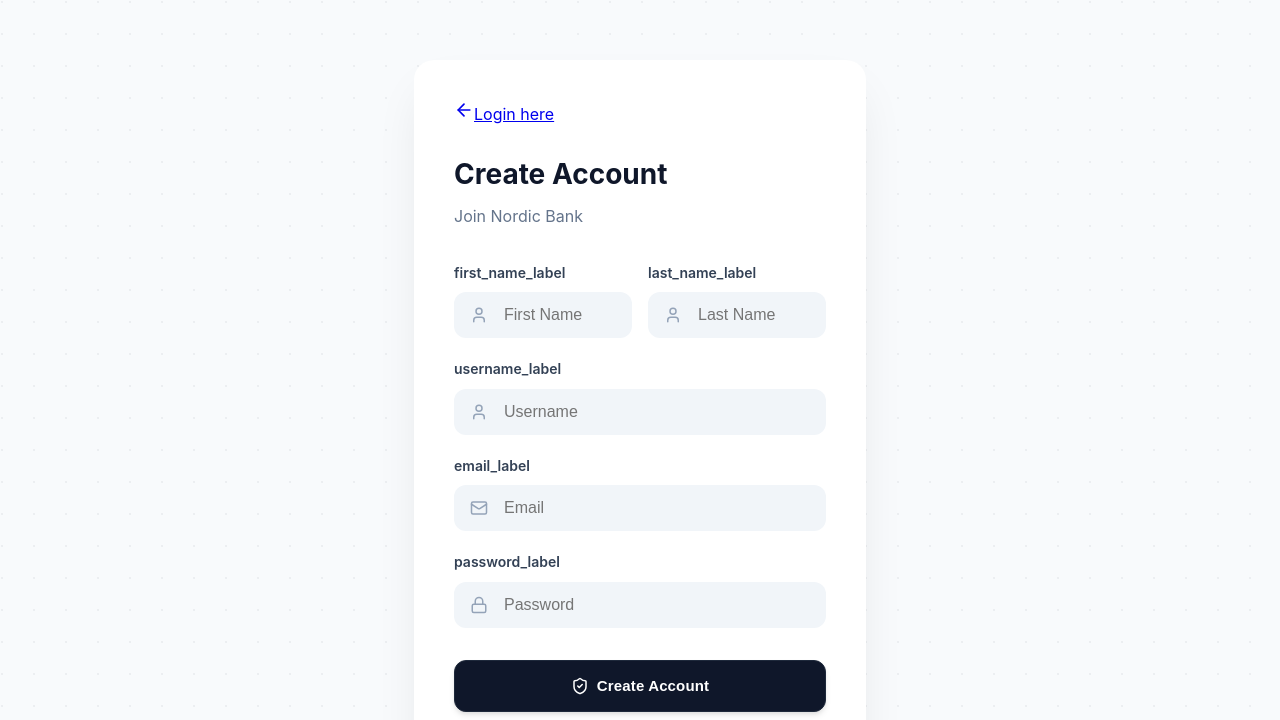
Scenario: RegisterContent - P1 Registration Tests › should handle registration errors
# Submit form
In the field with placeholder "First Name": (543, 315) top-left (454, 292), bottom-right (632, 338), type "Existing"
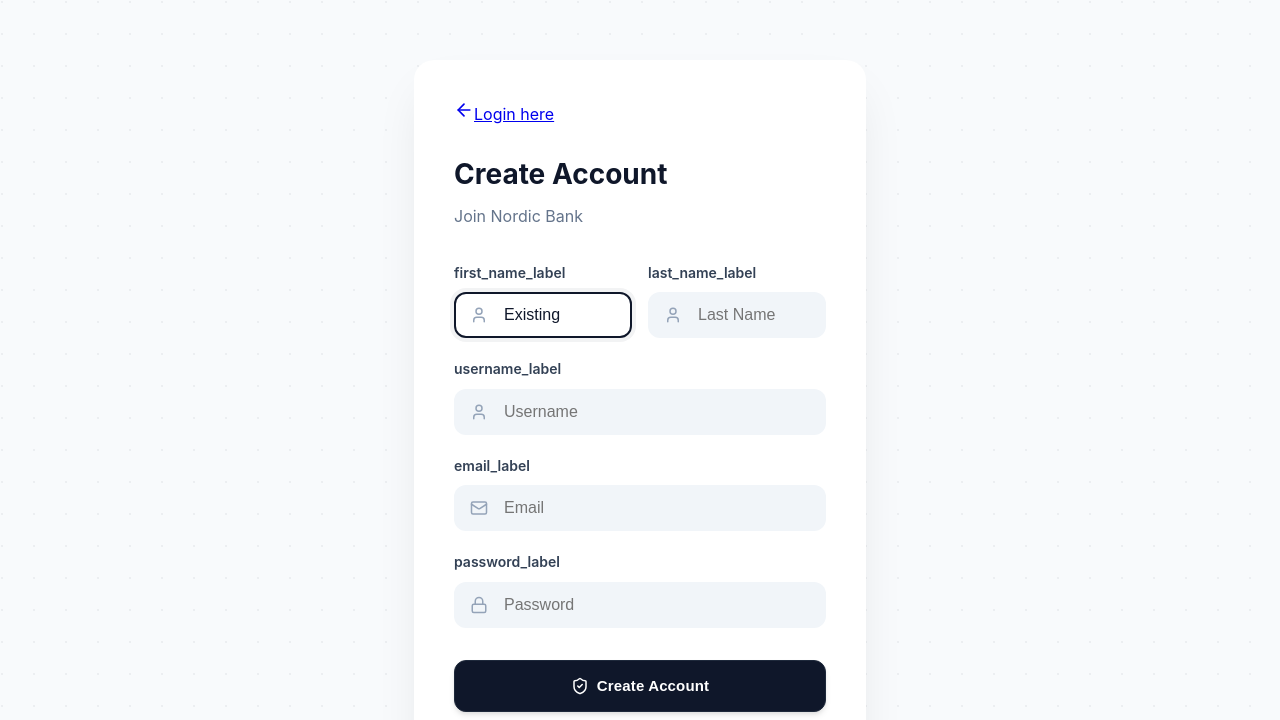
In the field with placeholder "Last Name": (737, 315) top-left (648, 292), bottom-right (826, 338), type "User"
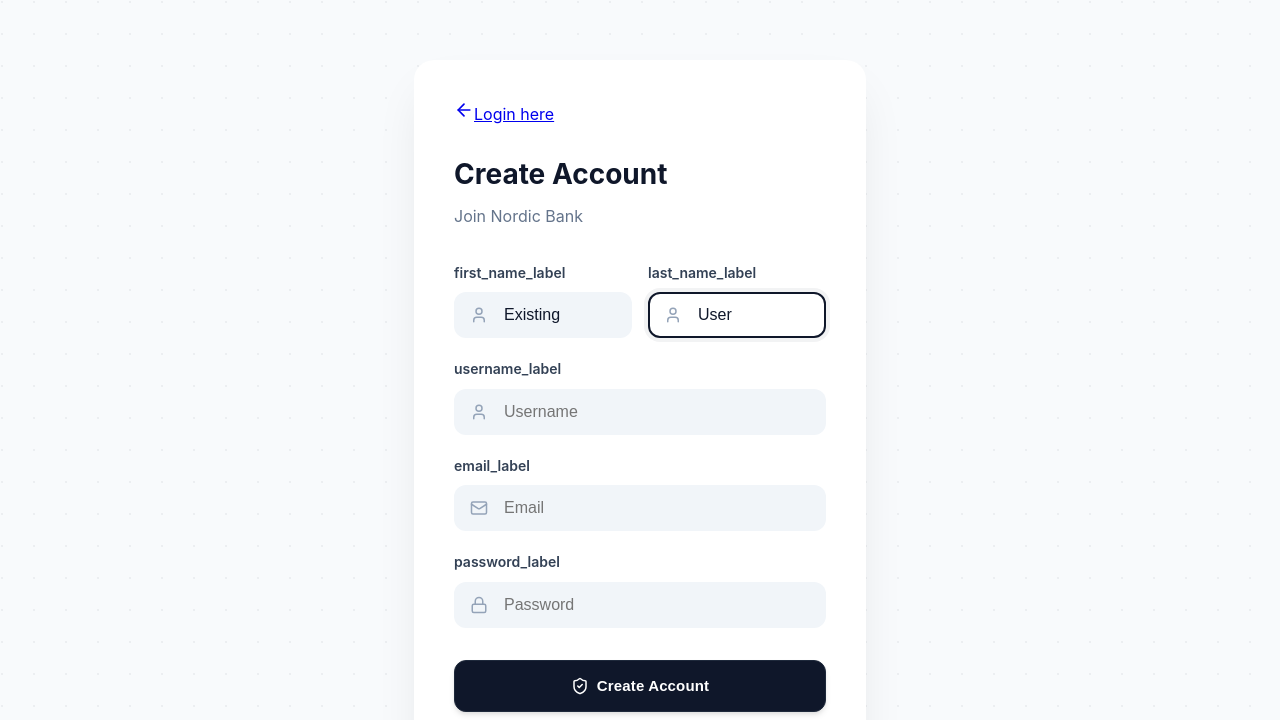
In the field with placeholder "Username": (640, 412) top-left (454, 389), bottom-right (826, 435), type "existing"
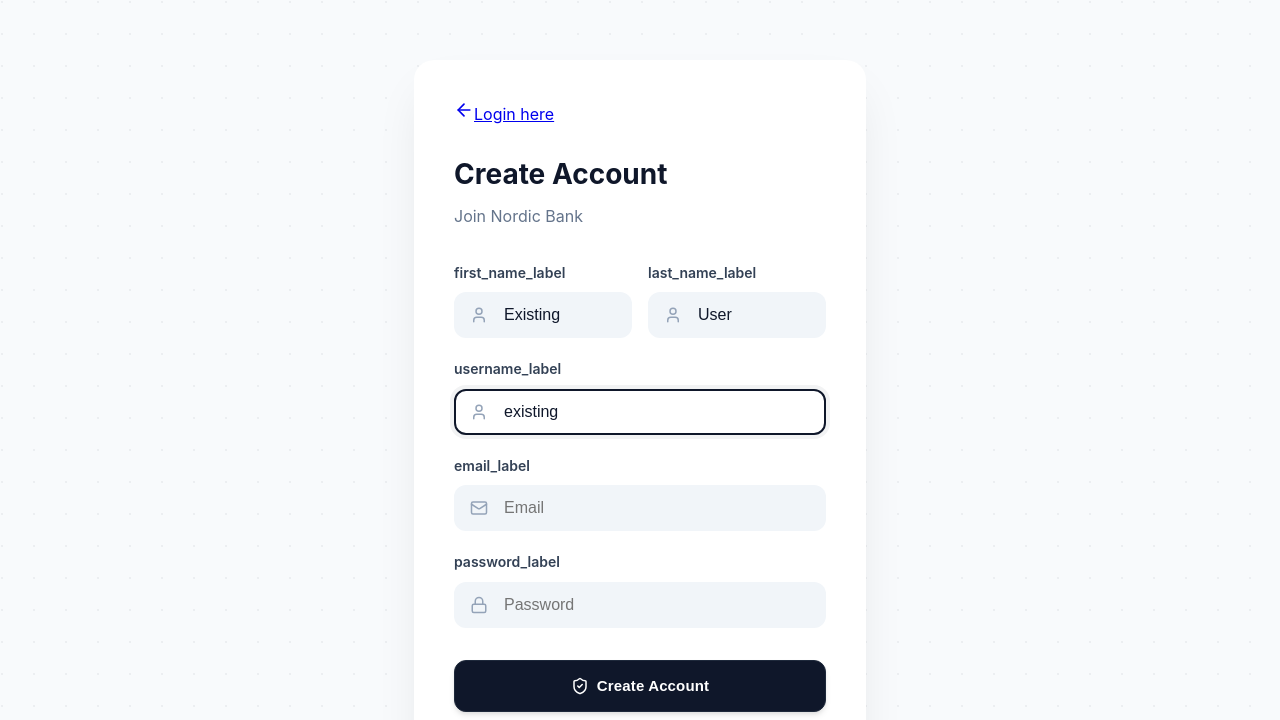
In the field with placeholder "Email": (640, 508) top-left (454, 485), bottom-right (826, 531), type "test@test.com"
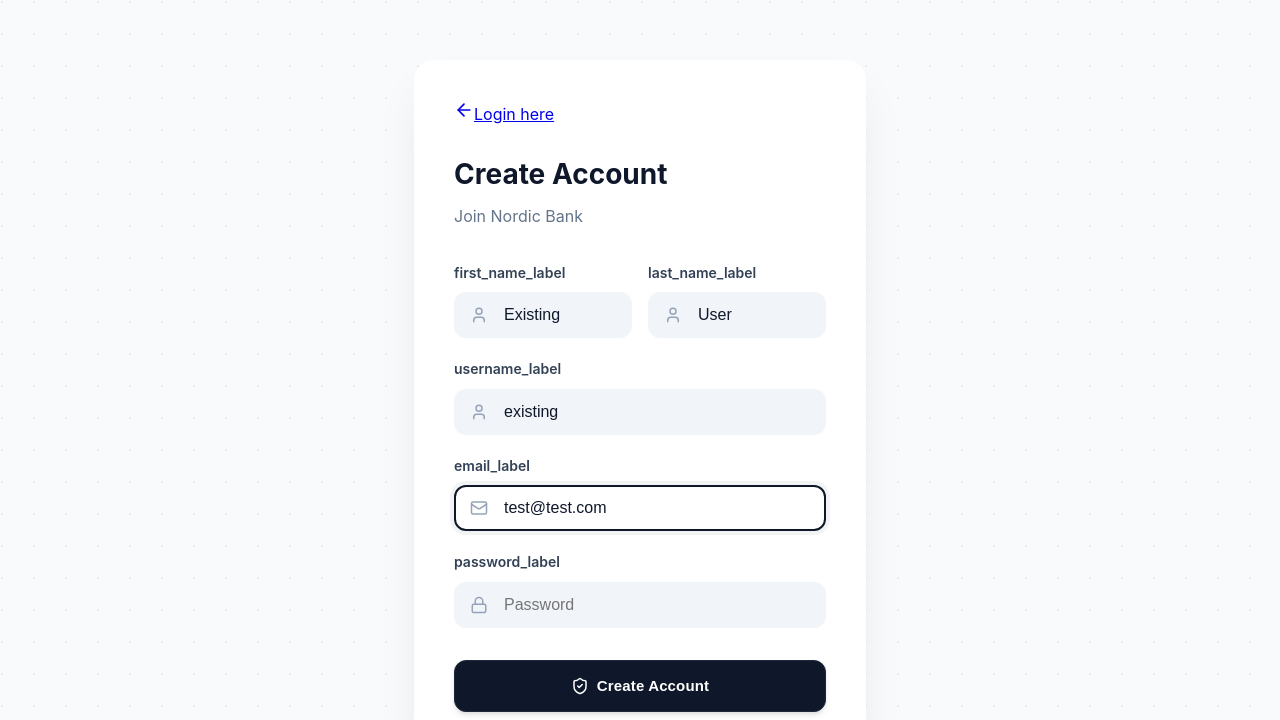
In the password field with placeholder "Password": (640, 604) top-left (454, 582), bottom-right (826, 628), type "Pass123!"
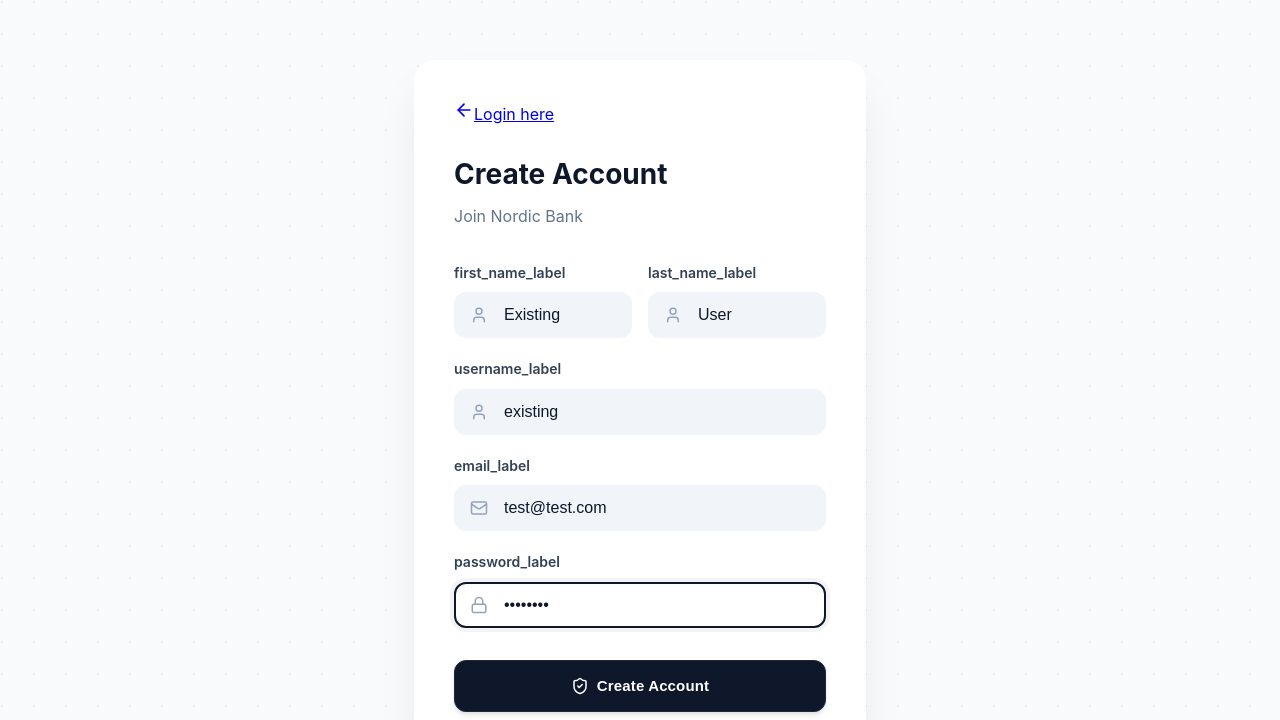
Click the button "Create Account": click(640, 686) top-left (454, 660), bottom-right (826, 712)
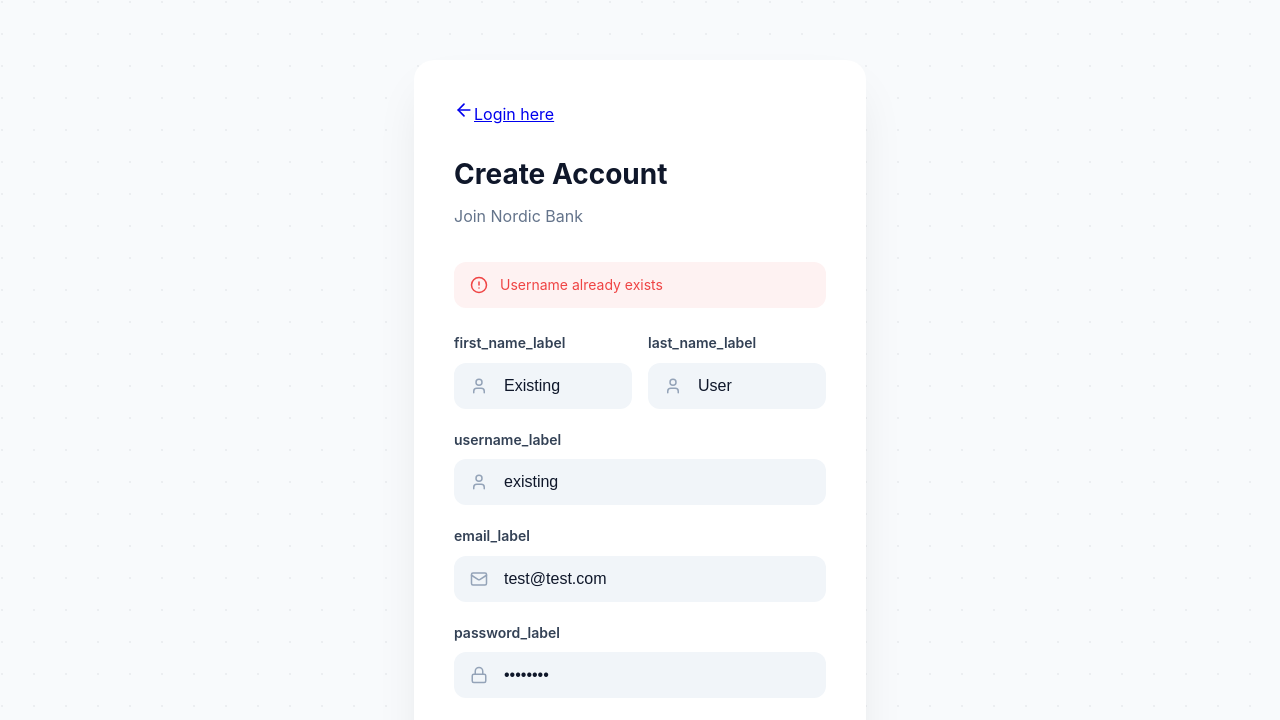
expect the text "Username already exists" is shown: met, box top-left (500, 274), bottom-right (663, 296)
